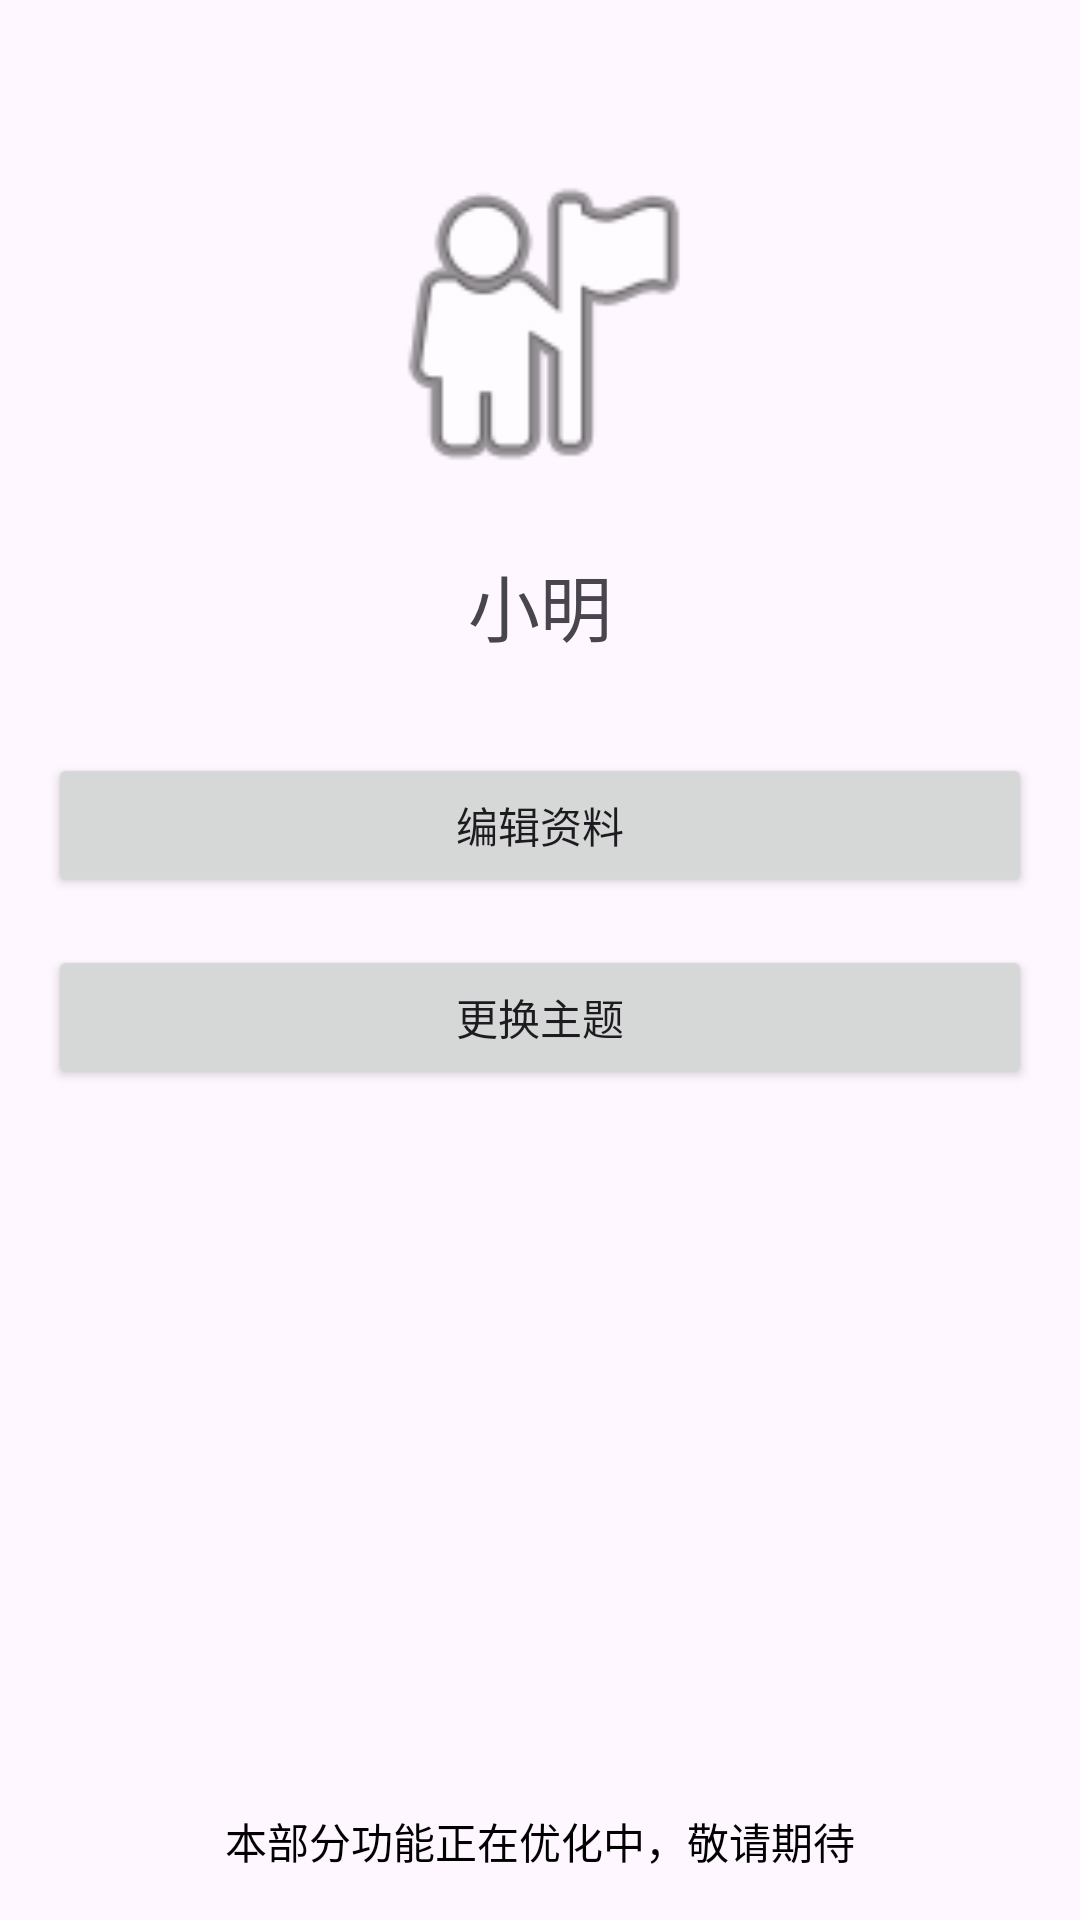

Icon bounding boxes for this 1080px×1920px phone screenshot, format (x1,y1,x2,y2):
myplaces: (408,189,679,459)
